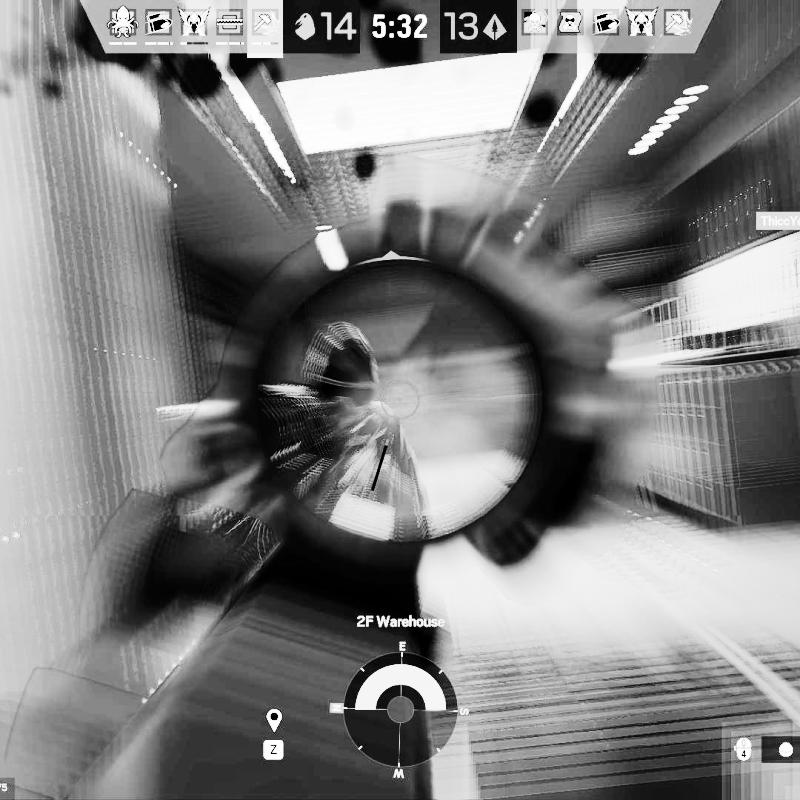Character: (237, 316, 442, 540)
Head: (300, 324, 382, 403)
